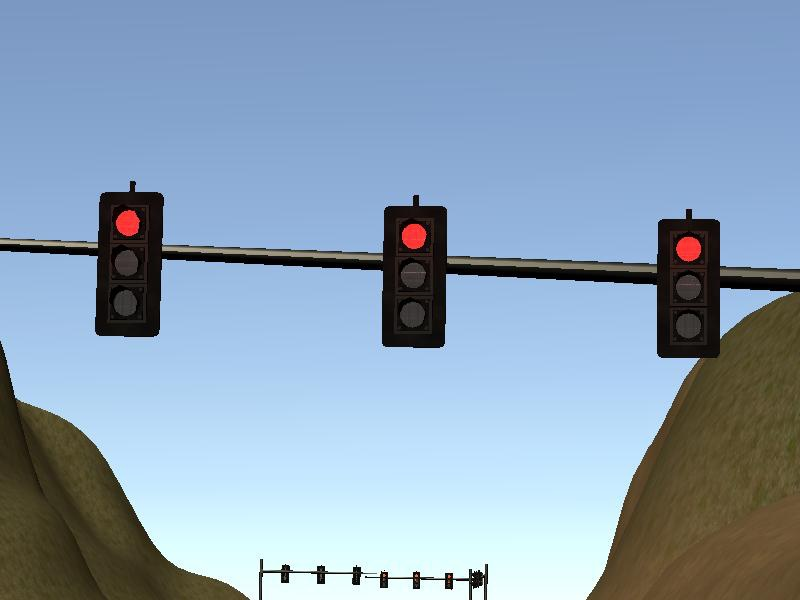red_light: (385, 208, 446, 347), (99, 195, 158, 332), (661, 221, 718, 356)
